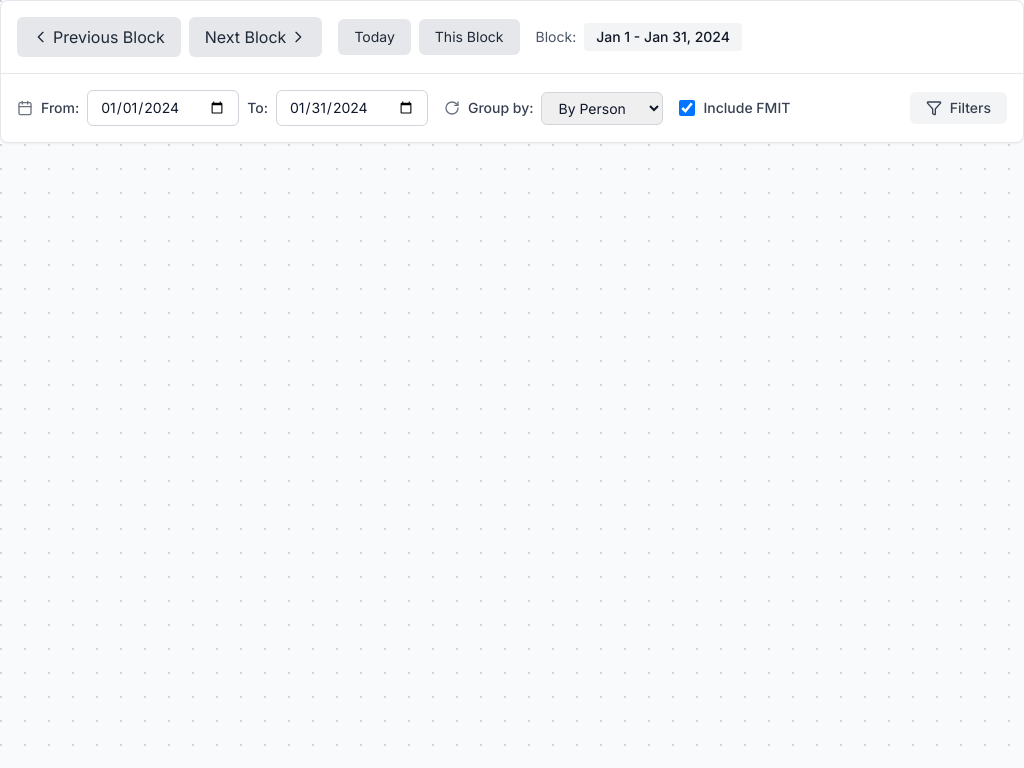
Test: HeatmapControls › Filters Panel Toggle › should show filters panel when filters button is clicked
Click the button "Filters" at (958, 108), box [910,92,1007,124]
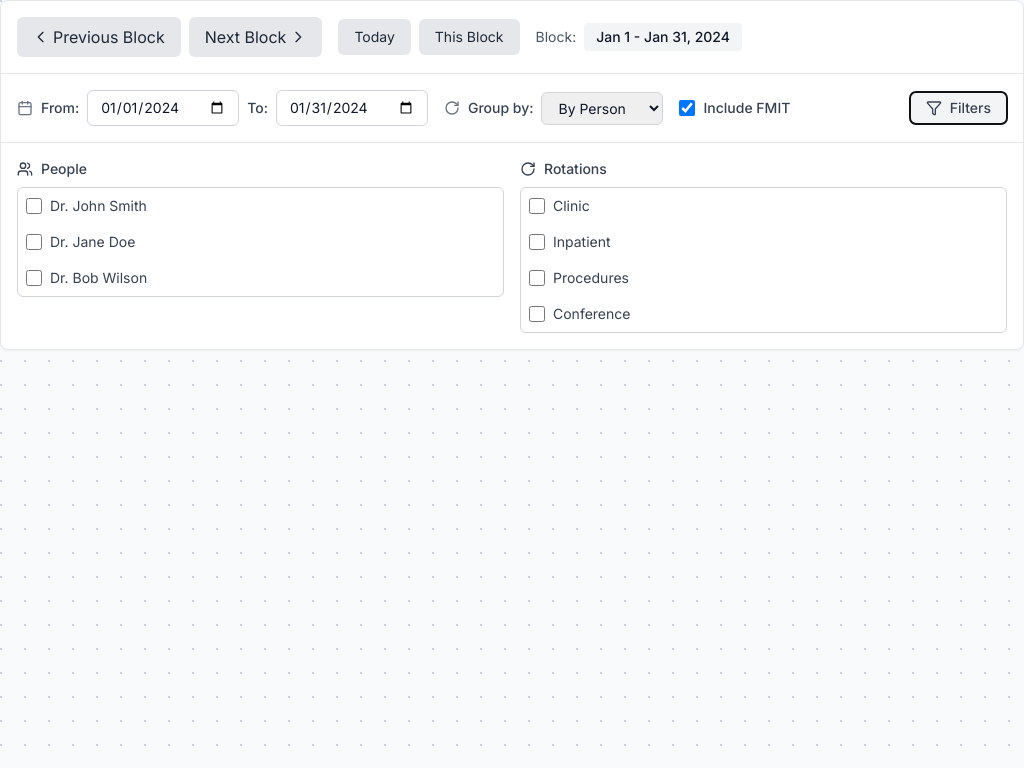
Expected: the text "People" is shown, [17,159,87,179]
Expected: the text "Rotations" is shown, [520,159,607,179]
